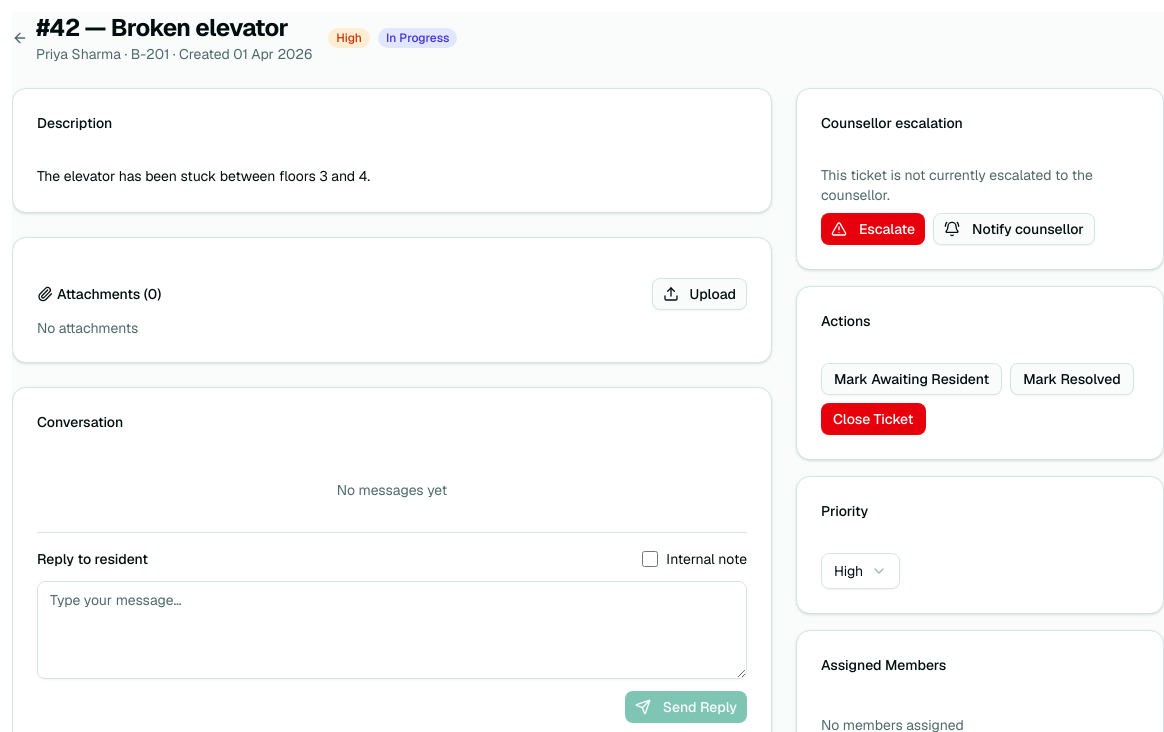
Test case: AdminResidentTicketDetailPage › toggles internal note mode
Expected: the text "Reply to resident" is shown, [37, 552, 148, 566]
Click the checkbox at (650, 559), box [642, 551, 658, 567]
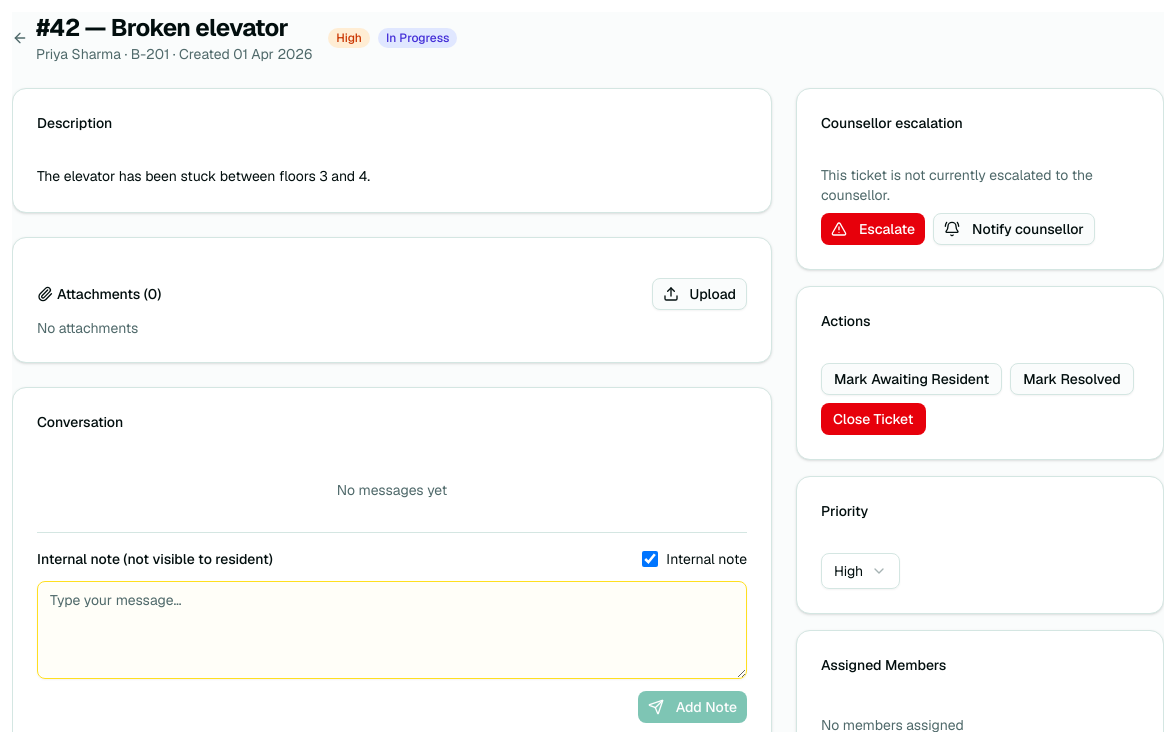
Result: the text "Internal note (not visible to resident)" is shown at [37, 552, 273, 566]
Result: the button "Add Note" is shown at [638, 691, 747, 723]
